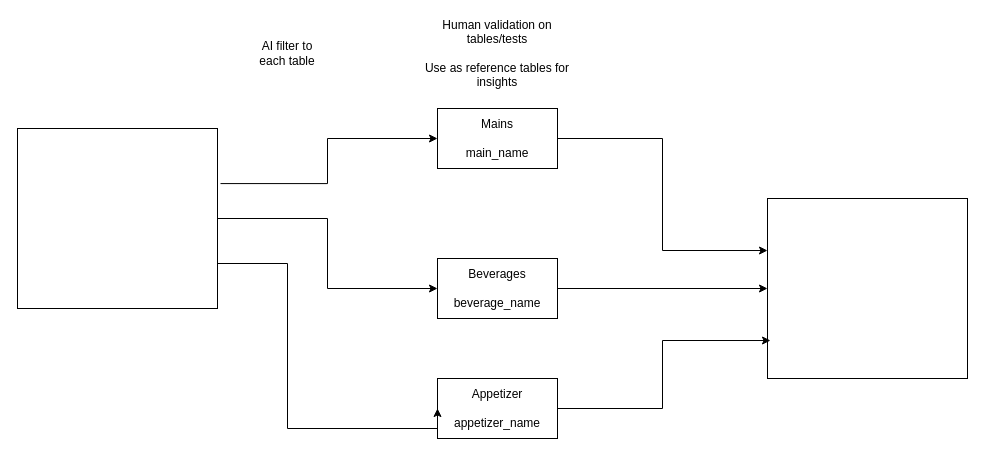
This 985x456 diagram has some shape labels left out. The centre of each missing label's shape, as x and y in pixels:
Dashboarding/New Menu table: point (867, 288)
Menu Menu_id name category: point (117, 218)
